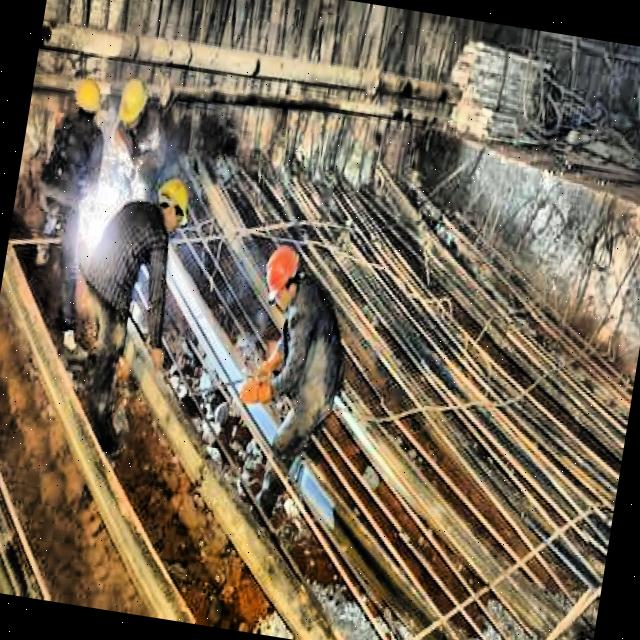helmet: (149, 172, 201, 246), (259, 240, 309, 310), (112, 75, 156, 144), (69, 74, 109, 130)
